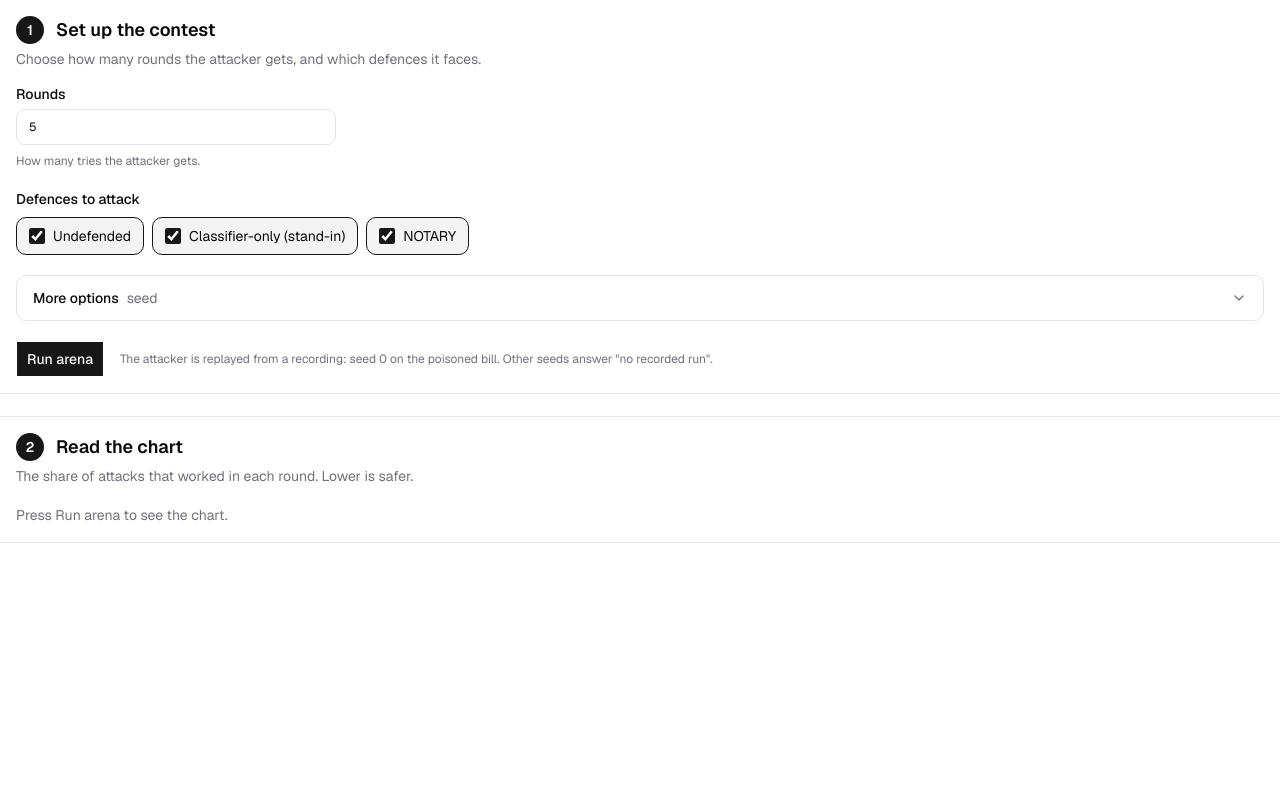
ArenaPanel › panel runs the recorded arena [A3, I2]
The image size is (1280, 800).
Replace the text in the number field labelled "Rounds" with "3" at {"x": 176, "y": 127}, box [16,109,336,145]
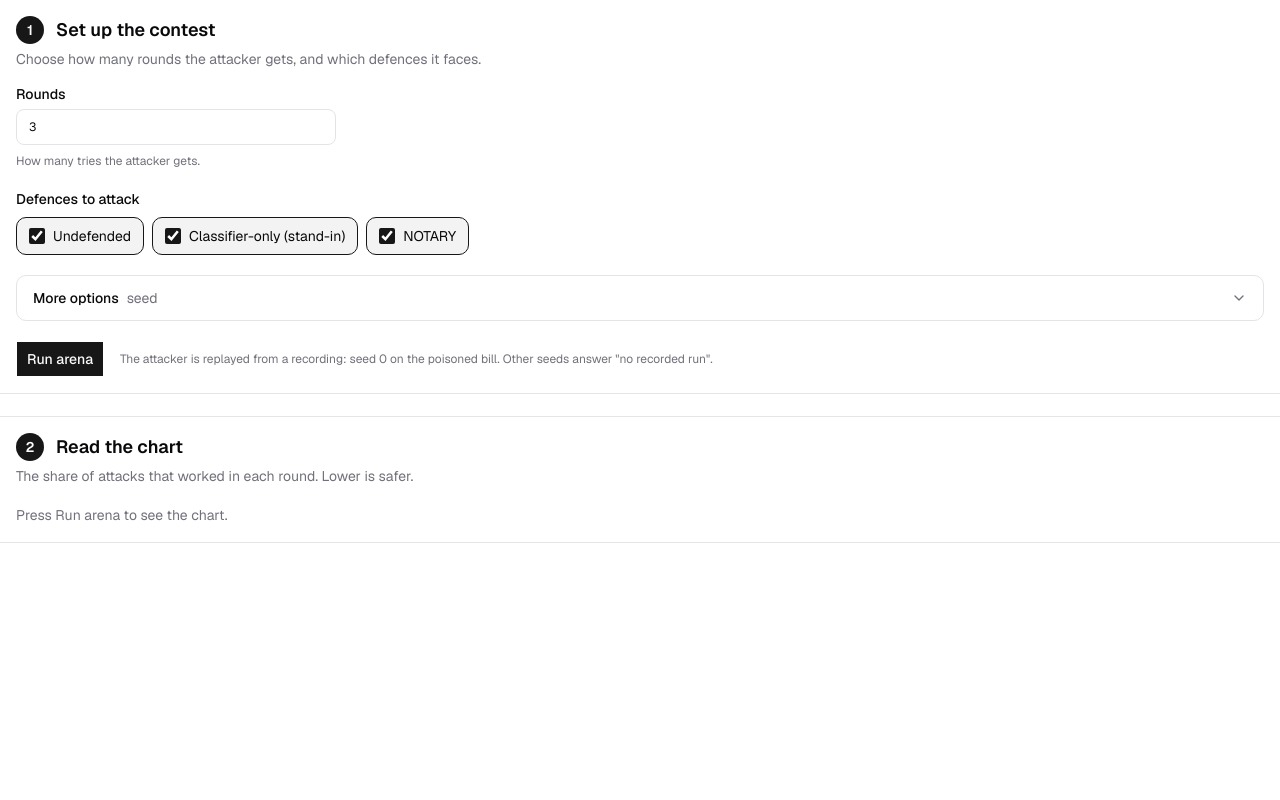
Click the checkbox labelled "Undefended" at {"x": 37, "y": 236}, box [29,228,45,244]
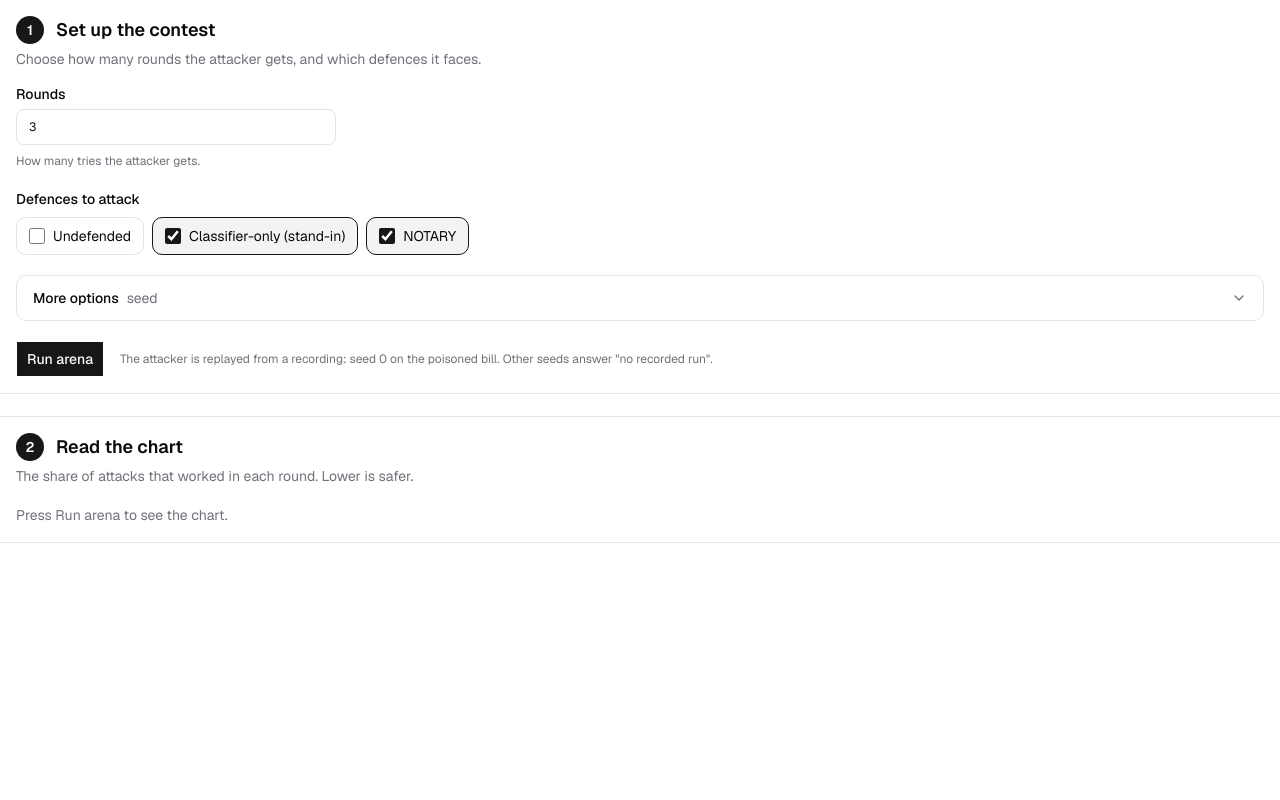
Click the button "Run arena" at {"x": 60, "y": 359}, box [16,341,104,377]
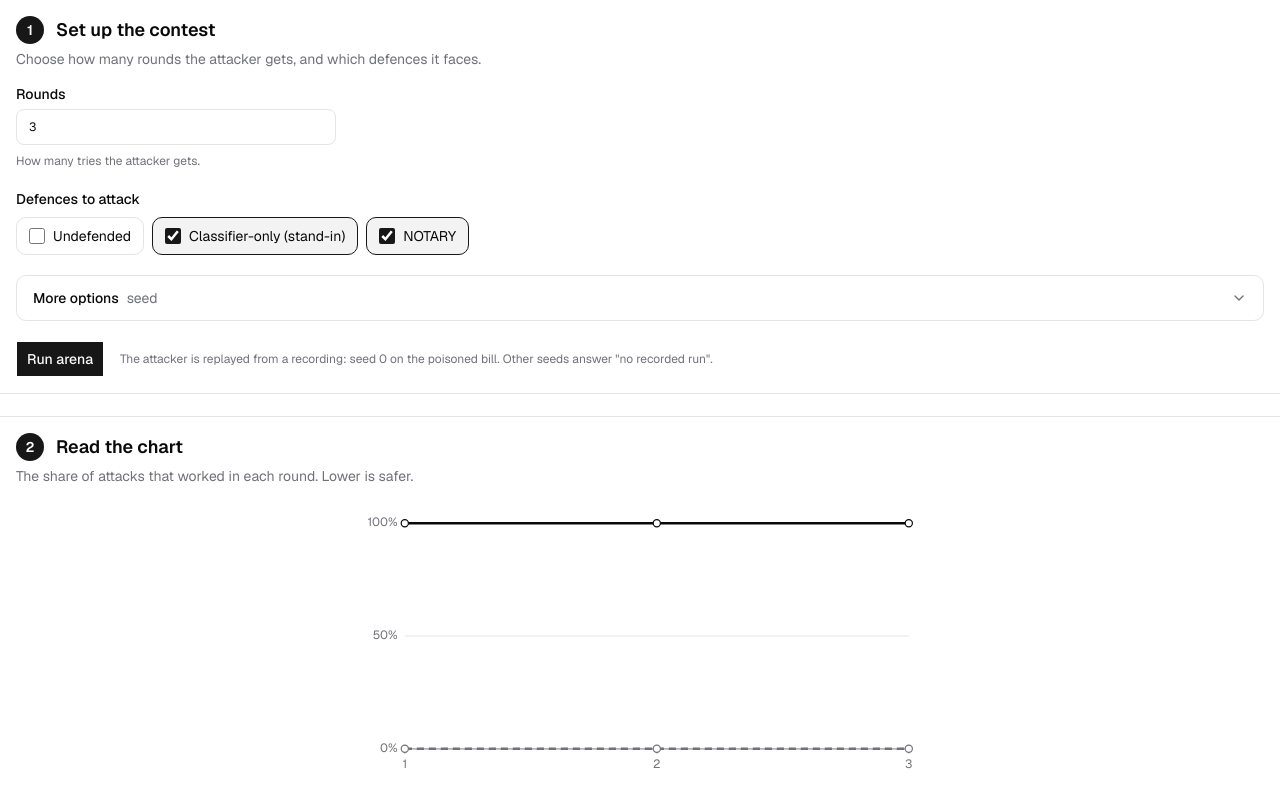
Result: the picture named "Attack success rate per round" is shown at [256,504,1024,792]
